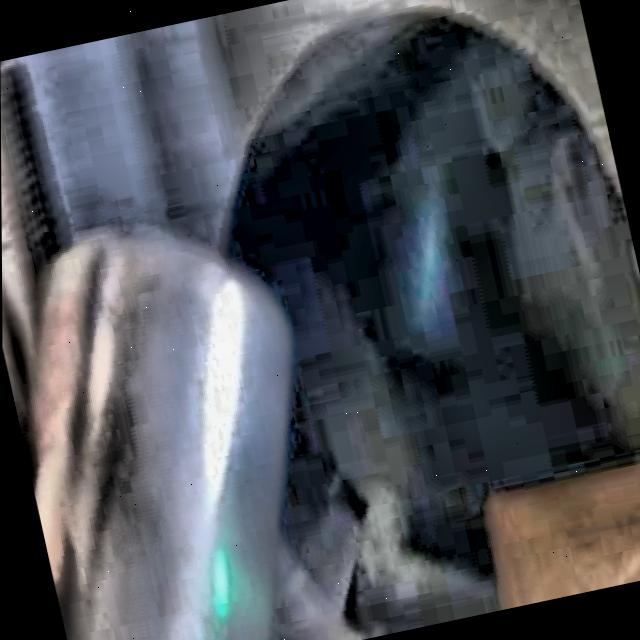metal: (27, 230, 289, 640)
